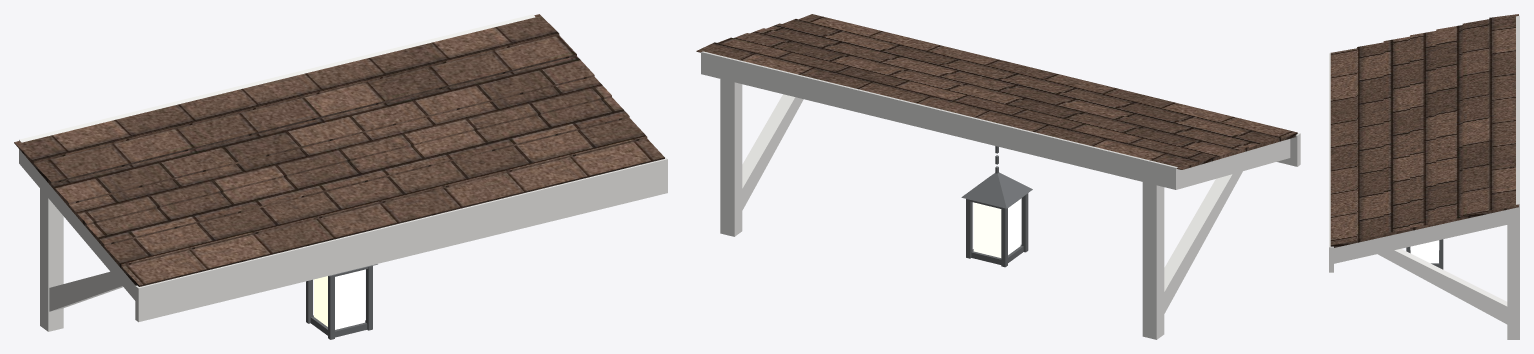
Rendered from entry_canopy.glb.
3 renders of one model, left to right at view 1: azimuth 30°, elevation 25°; view 2: azimuth 150°, elevation 25°; view 3: azimuth 270°, elevation 25°, orthographic. The views are drawn at different scales.
Parts seen in each view (by area): view 1: entry_canopy_shingles, entry_canopy_trim, entry_canopy_lamp_glass, entry_canopy_iron; view 2: entry_canopy_shingles, entry_canopy_trim, entry_canopy_iron, entry_canopy_lamp_glass; view 3: entry_canopy_shingles, entry_canopy_trim, entry_canopy_lamp_glass, entry_canopy_iron.
Boxes of the visible parts, bbox=[...] form: entry_canopy_shingles: bbox=[14, 14, 664, 286]; entry_canopy_trim: bbox=[19, 14, 667, 331]; entry_canopy_lamp_glass: bbox=[314, 269, 364, 329]; entry_canopy_iron: bbox=[306, 264, 377, 339]; entry_canopy_shingles: bbox=[696, 14, 1297, 169]; entry_canopy_trim: bbox=[701, 51, 1300, 339]; entry_canopy_iron: bbox=[961, 146, 1032, 267]; entry_canopy_lamp_glass: bbox=[973, 199, 1020, 257]; entry_canopy_shingles: bbox=[1330, 14, 1518, 247]; entry_canopy_trim: bbox=[1329, 15, 1519, 339]; entry_canopy_lamp_glass: bbox=[1410, 240, 1438, 263]; entry_canopy_iron: bbox=[1406, 239, 1443, 269].
Bounding box in the file's own units: 2.78 × 1.06 × 1.16.
Materials: 4 (1 with a texture image).
